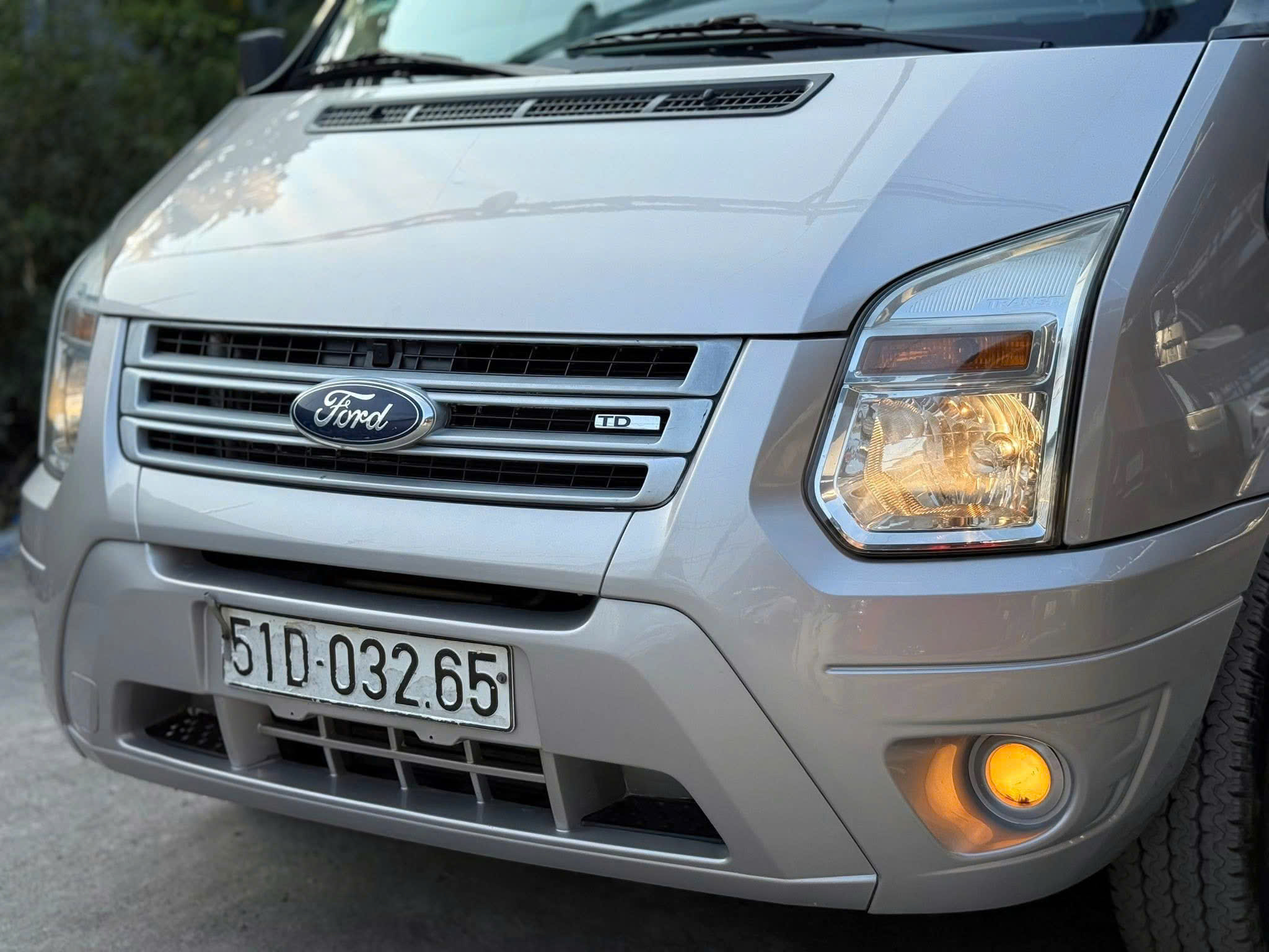Bien-so: (218, 595, 522, 738)
